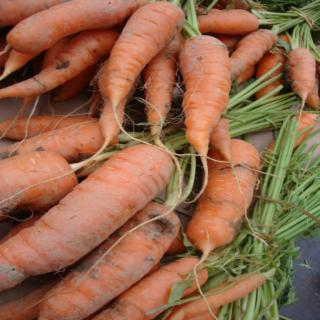Carrot: (0, 0, 319, 204), (0, 141, 178, 291), (3, 230, 267, 320), (186, 137, 260, 318)
